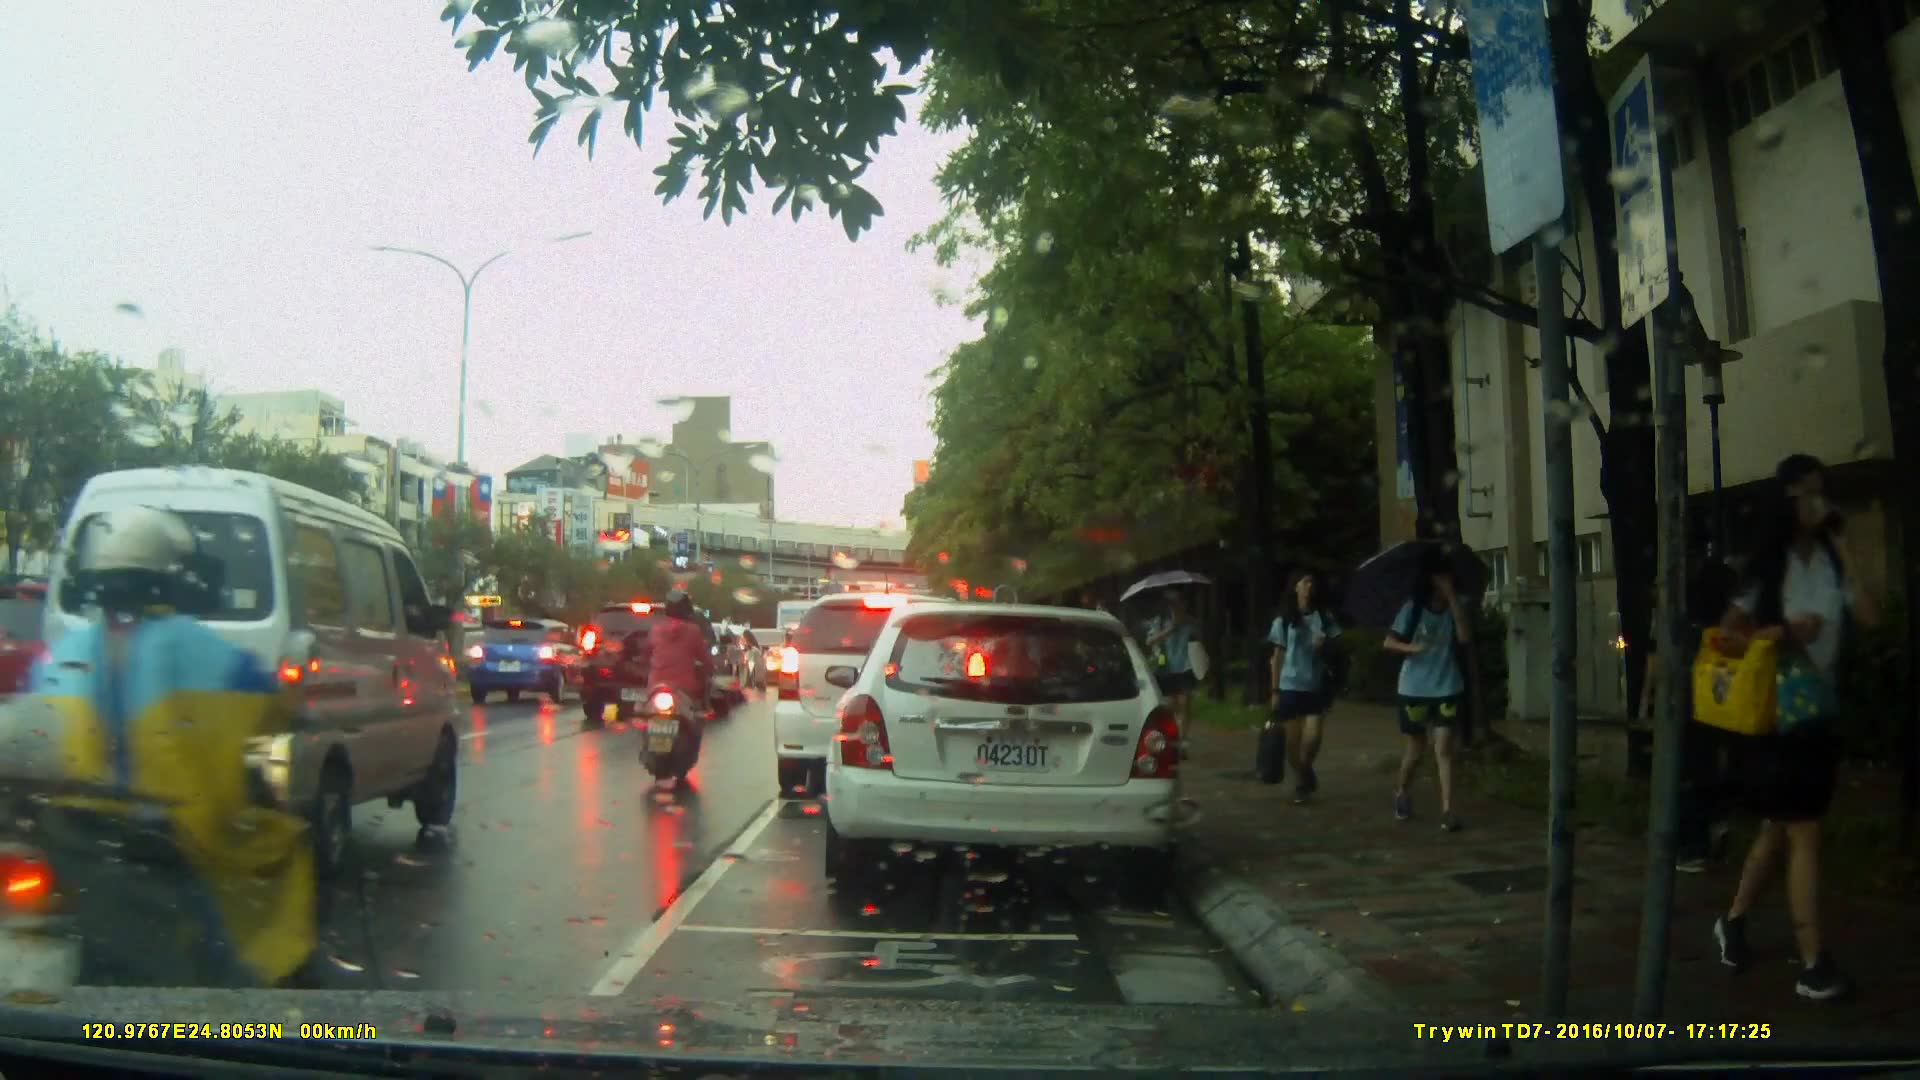pedestrian: (1709, 434, 1873, 1002), (1654, 508, 1765, 891), (1364, 544, 1483, 835), (1254, 566, 1341, 809), (1151, 585, 1214, 758)
rider: (1, 510, 339, 1054), (641, 589, 718, 781)
vehicle: (33, 468, 462, 884), (815, 593, 1204, 909), (771, 590, 994, 802), (574, 603, 737, 726), (472, 618, 597, 709)
